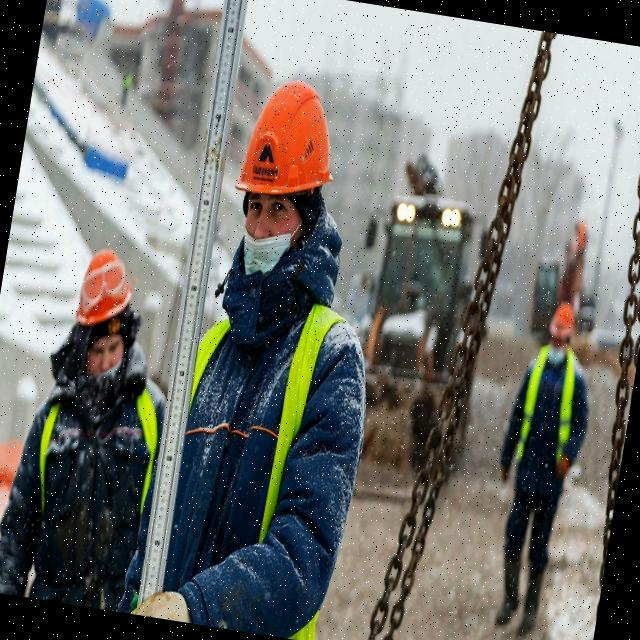Helmet: (236, 74, 347, 209), (75, 246, 140, 333), (548, 302, 580, 347)
Jacket: (154, 283, 370, 640), (18, 348, 169, 609), (519, 346, 592, 471)
